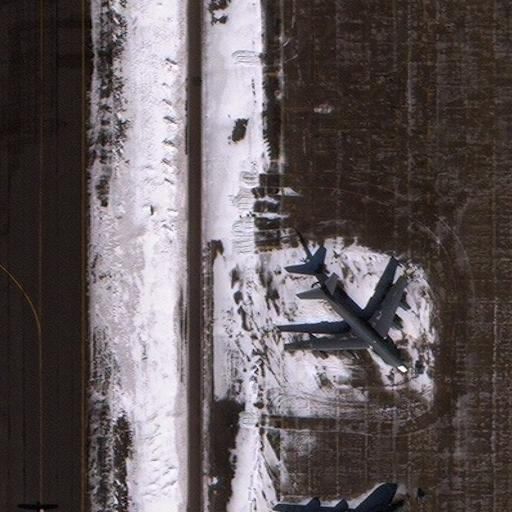Military Transport: (287, 283, 407, 368)
